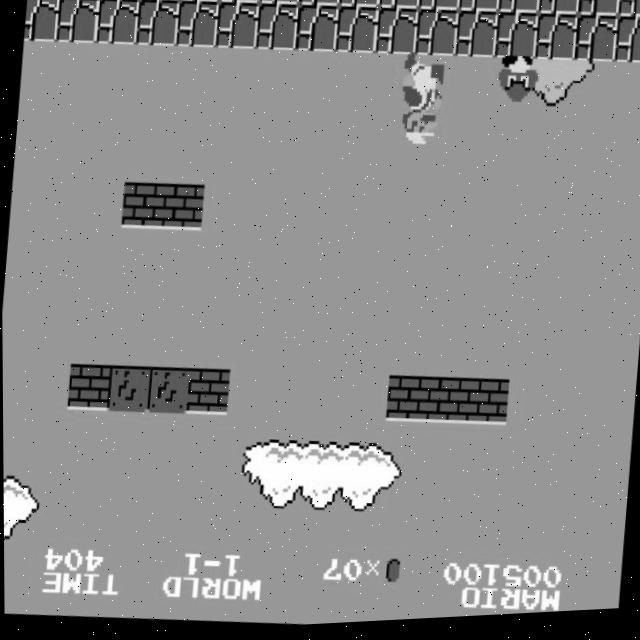1- brick_block: (160, 183, 205, 234), (120, 181, 165, 232), (464, 381, 509, 431), (424, 379, 469, 429), (185, 369, 230, 419), (65, 363, 110, 413), (384, 378, 429, 427)
13- mystery_block: (145, 367, 190, 417), (105, 365, 150, 415)
17- undestructible_block: (573, 19, 619, 70), (533, 17, 579, 68), (494, 15, 539, 66), (454, 13, 499, 64), (414, 11, 459, 62), (374, 9, 419, 60), (294, 6, 339, 57), (254, 4, 299, 55), (215, 2, 260, 53), (175, 0, 220, 51), (334, 8, 379, 58), (135, 0, 180, 49), (95, 0, 140, 47), (55, 0, 100, 45), (23, 0, 60, 44), (613, 21, 640, 71), (577, 0, 620, 24), (537, 0, 580, 22), (497, 0, 540, 20), (458, 0, 501, 18), (418, 0, 461, 16), (378, 0, 421, 15), (617, 0, 640, 26), (338, 0, 381, 13), (298, 0, 341, 11), (258, 0, 301, 9), (218, 0, 261, 7), (178, 0, 221, 6), (138, 0, 181, 3), (99, 0, 142, 2)
4- fire_mario: (397, 54, 448, 153)
8- goomba: (495, 58, 543, 113)
